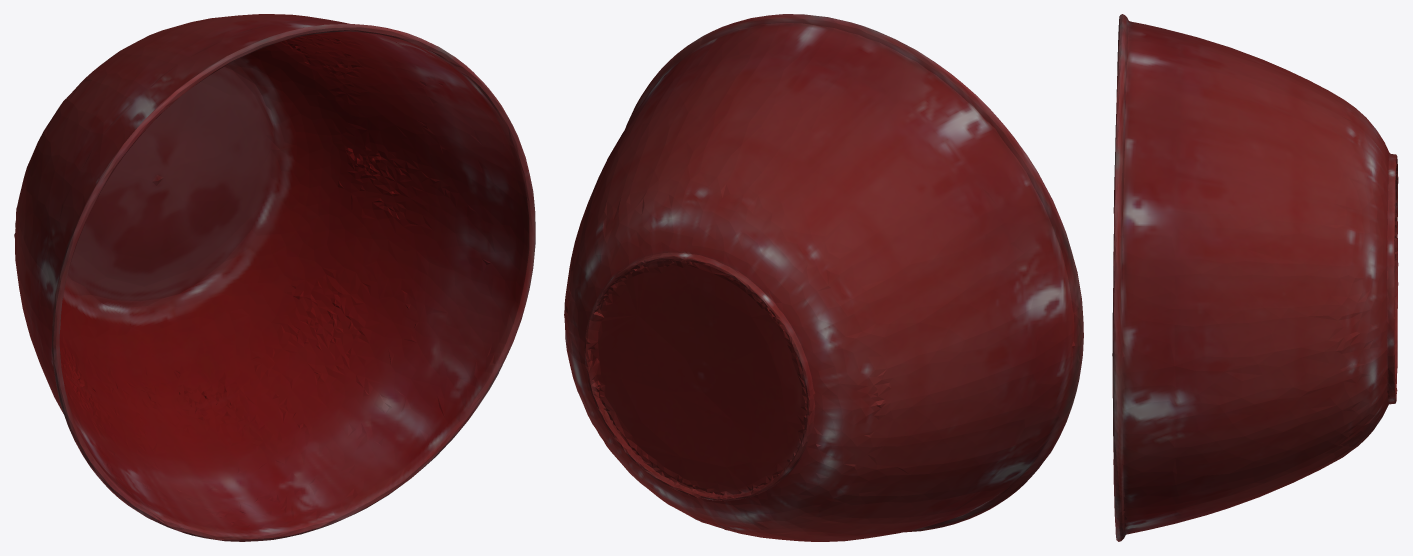
File: Bradshaw_International_11642_7_Qt_MP_Plastic_Bowl.glb
The picture shows the model from 3 angles, left to right: view 1: azimuth 30°, elevation 25°; view 2: azimuth 150°, elevation 25°; view 3: azimuth 270°, elevation 25°; orthographic projection. The views are drawn at different scales.
Visible parts, largest first — view 1: v0; view 2: v0; view 3: v0.
Part boxes in pixels (x1,y1,x2,y2): v0: (14, 14, 535, 541); v0: (564, 14, 1083, 541); v0: (1112, 14, 1398, 541).
Bounding box in the file's own units: 0.2826 × 0.2851 × 0.1545.
Materials: 1 (1 with a texture image).
